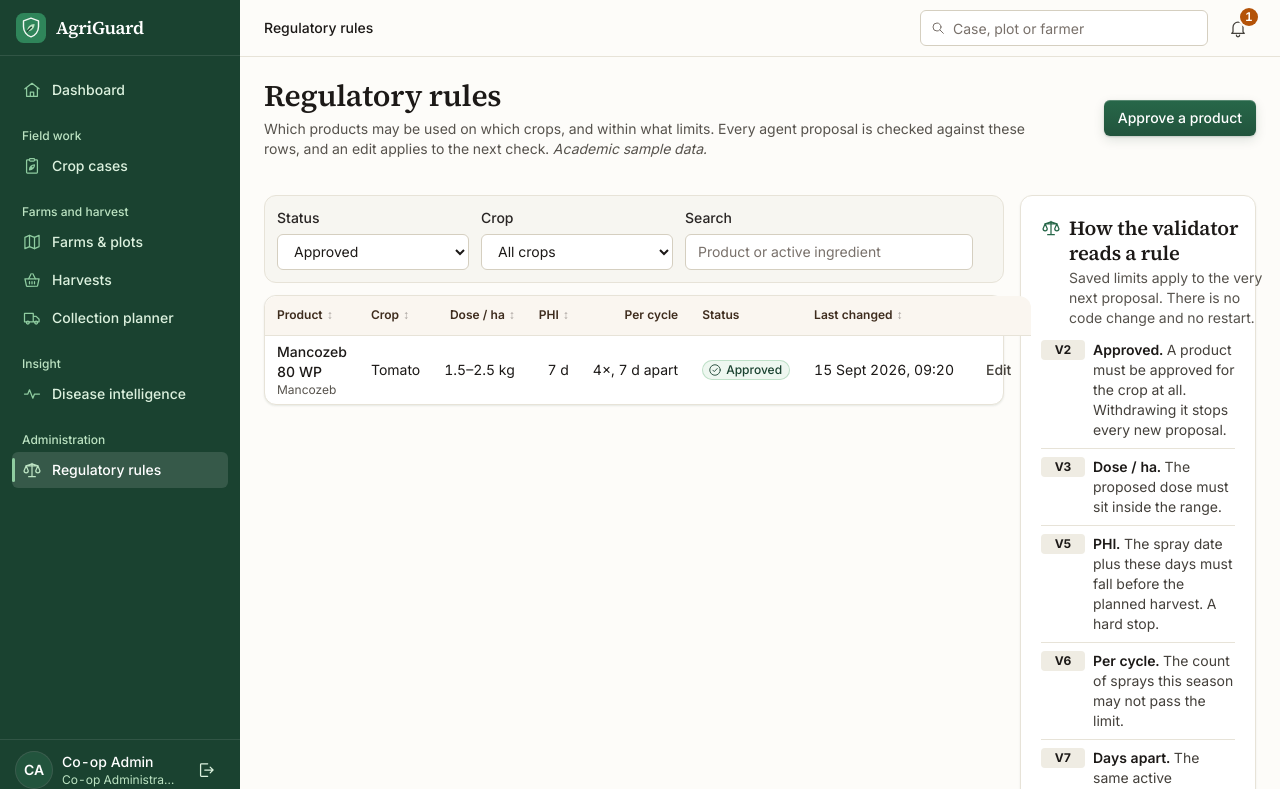
it: RulesPage › refuses a maximum below the minimum before sending it
Step 1. Click the button with aria-label "Edit Mancozeb 80 WP on Tomato" → (999, 370), box [978,354,1019,386]
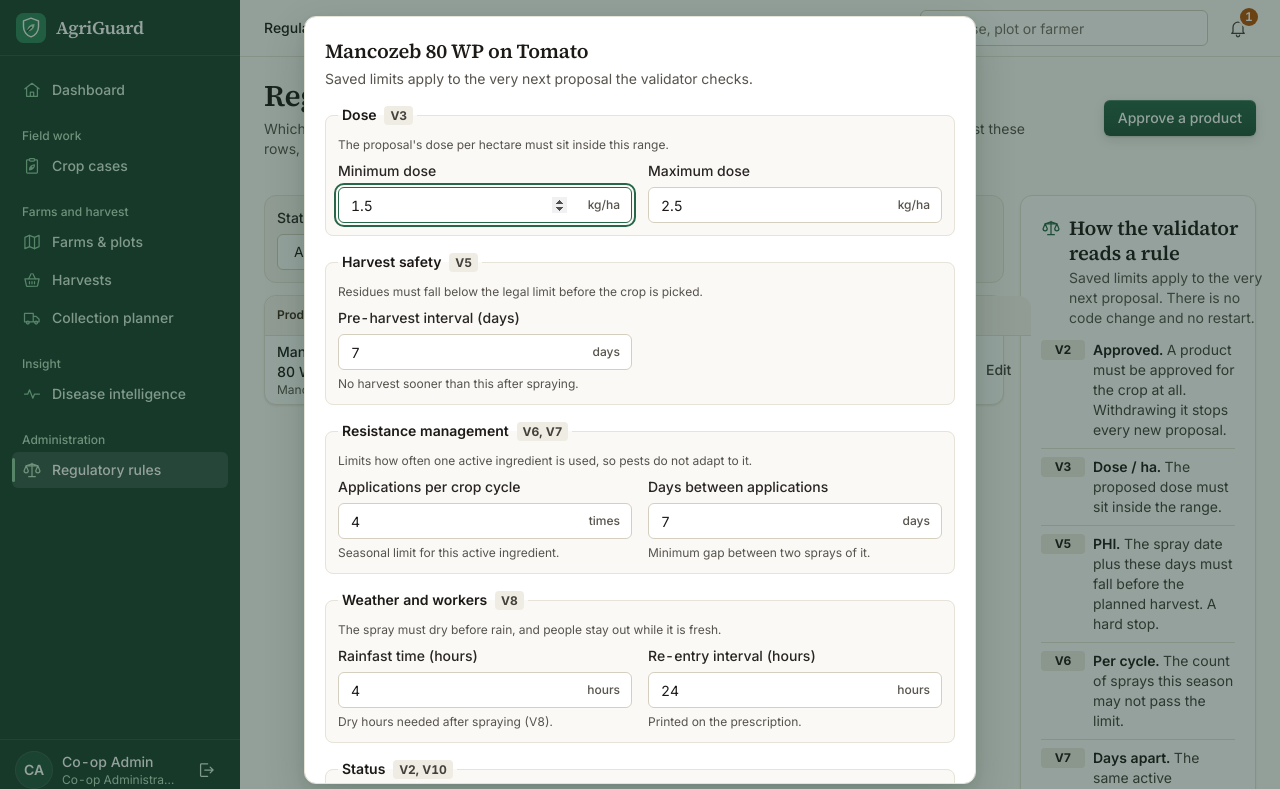
Step 2. Replace the text in the number field labelled "Maximum dose" with "1" → (795, 205), box [648,187,942,223]
(page scrolled)
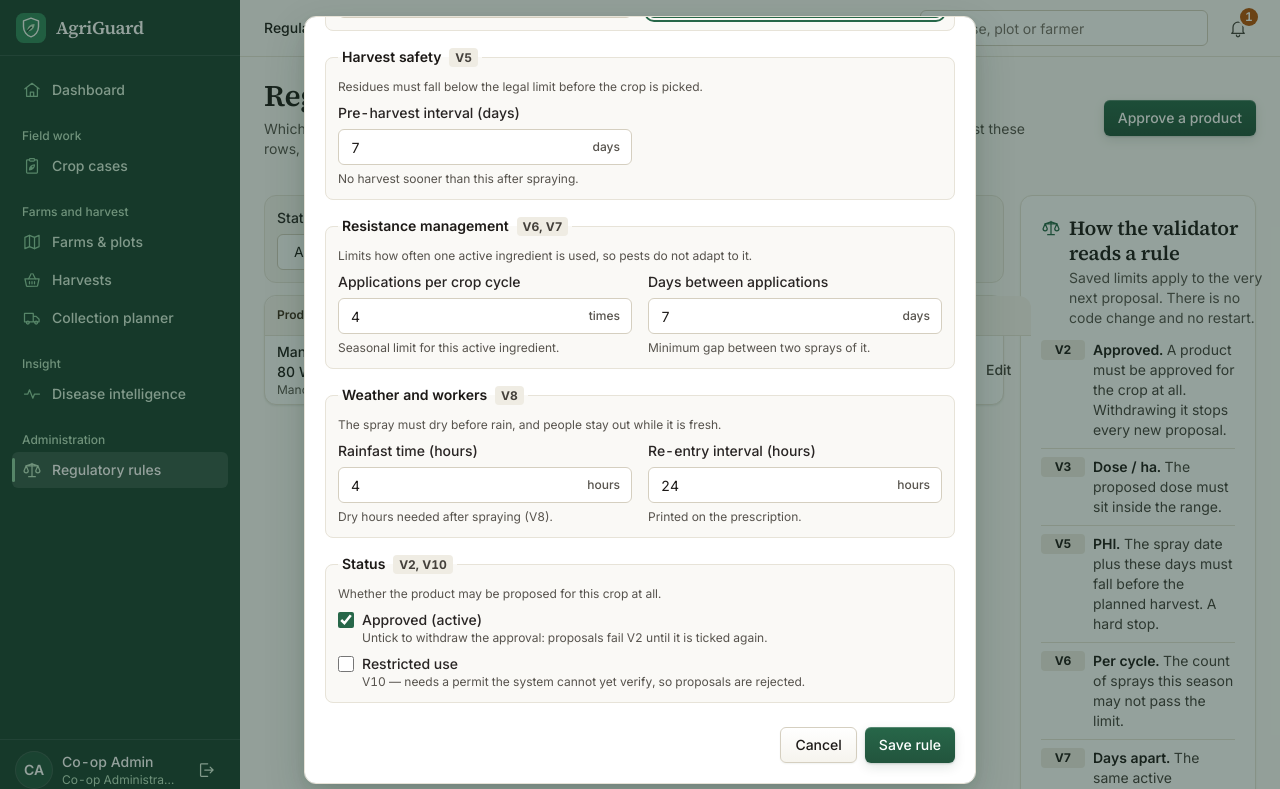
Step 3. Click the button "Save rule" → (910, 745), box [865,727,955,763]
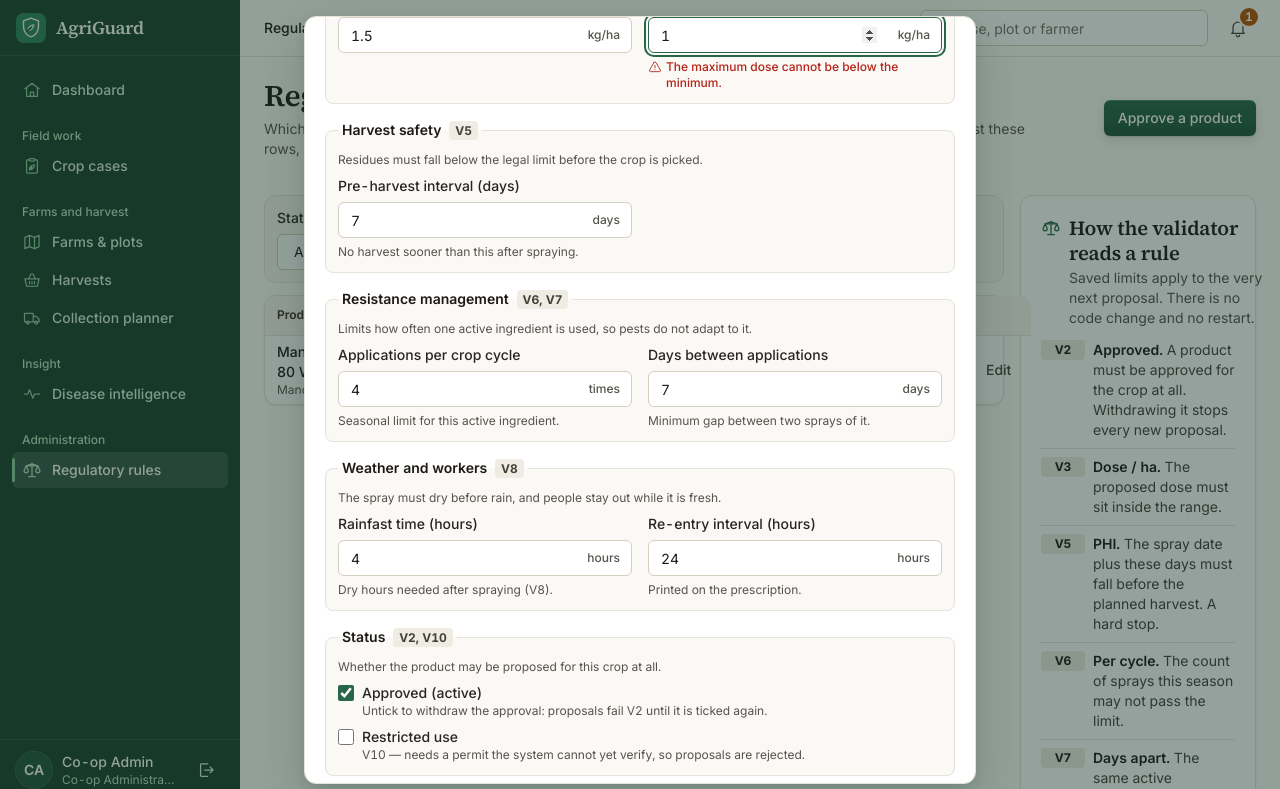
Expected: the text "The maximum dose cannot be below the minimum." is shown, [666,59,898,90]
